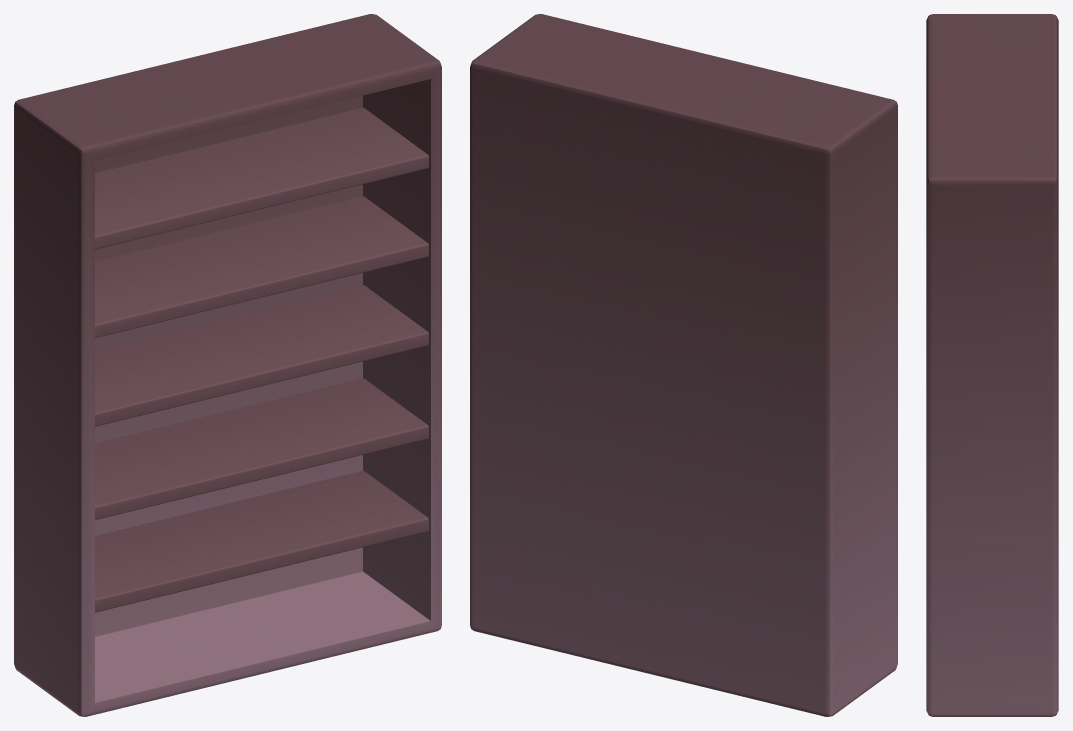
The model's file is SM_bookshelf.fbx.
The picture shows the model from 3 angles, left to right: view 1: azimuth 30°, elevation 25°; view 2: azimuth 150°, elevation 25°; view 3: azimuth 270°, elevation 25°; orthographic projection. The views are drawn at different scales.
Visible parts, largest first — view 1: SM_Bookshelf; view 2: SM_Bookshelf; view 3: SM_Bookshelf.
Boxes of the visible parts, <box> form: SM_Bookshelf: <box>14,14,441,716</box>; SM_Bookshelf: <box>470,14,897,716</box>; SM_Bookshelf: <box>926,14,1058,716</box>.
Bounding box in the file's own units: 27.66 × 41.51 × 9.2.
1 material, 1 textured.
